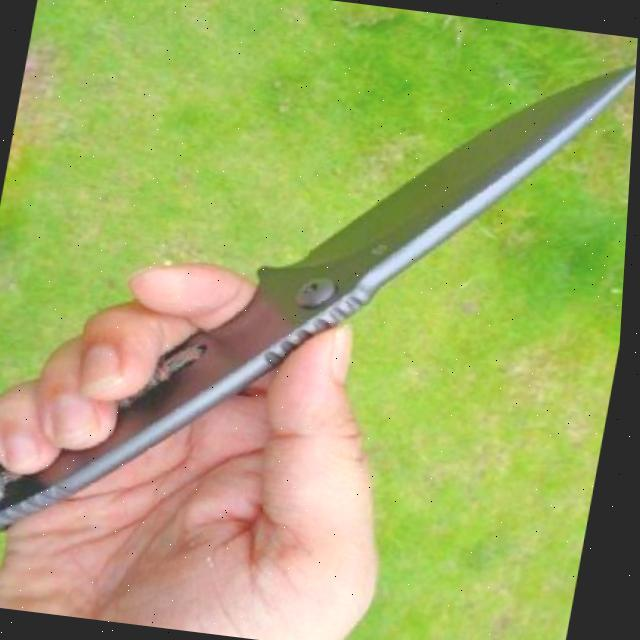knife: (0, 0, 640, 607)
